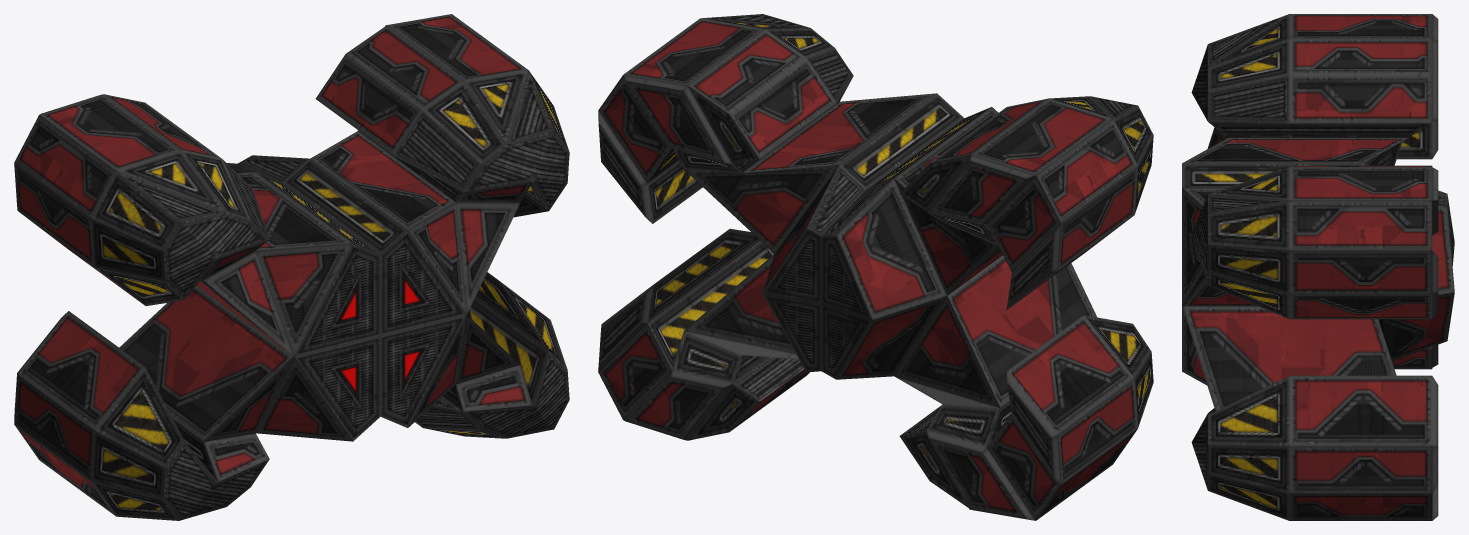
File: BFP_ConstRearHullSect02.FBX
3 views of the same model, side by side, from view 1: azimuth 30°, elevation 25°; view 2: azimuth 150°, elevation 25°; view 3: azimuth 270°, elevation 25° (orthographic). The views are drawn at different scales.
Parts seen in each view (by area): view 1: BFP_ConstRearHullSect02; view 2: BFP_ConstRearHullSect02; view 3: BFP_ConstRearHullSect02.
Part boxes in pixels (x1,y1,x2,y2): BFP_ConstRearHullSect02: (14,14,569,520); BFP_ConstRearHullSect02: (598,14,1153,520); BFP_ConstRearHullSect02: (1182,14,1454,520).
Size of the model in its own units: 323 by 237 by 178.
1 material, 1 textured.
